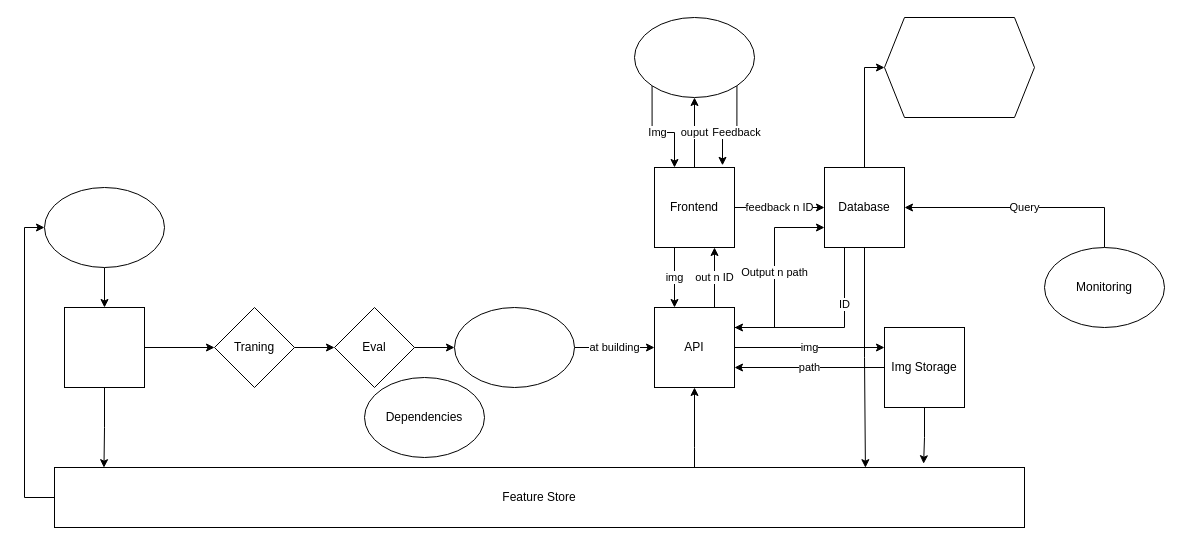
Image size: 1182x545. Some labels were removed from this diagram. Each missing label, with the centre of its shape:
"Data" belongs at point 104,227.
"ID, Date, path, output, feedback" belongs at point 959,67.
"Model" belongs at point 514,347.
"Preprocess pipeline" belongs at point 104,347.
"User" belongs at point 694,57.
